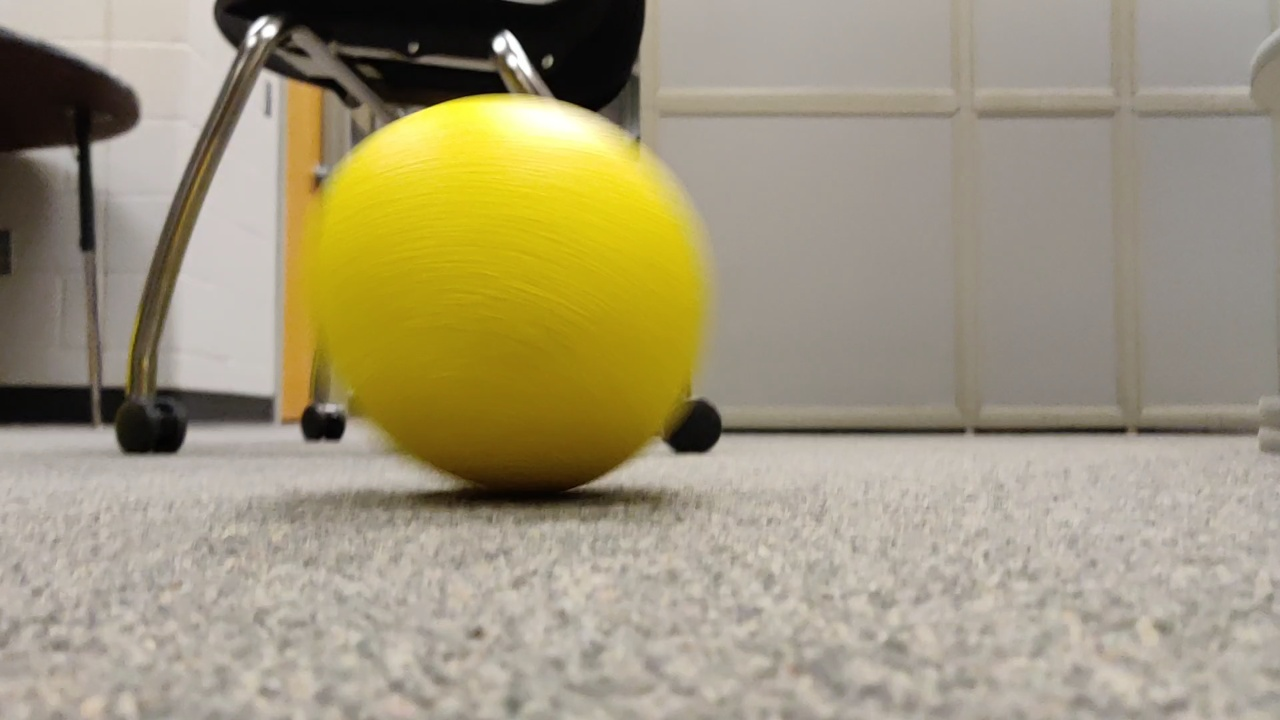Ball: (313, 94, 701, 487)
